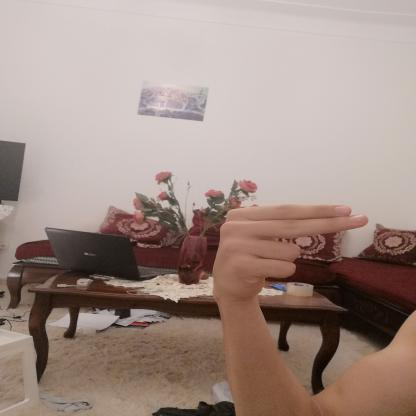AYN: (196, 196, 383, 308)
